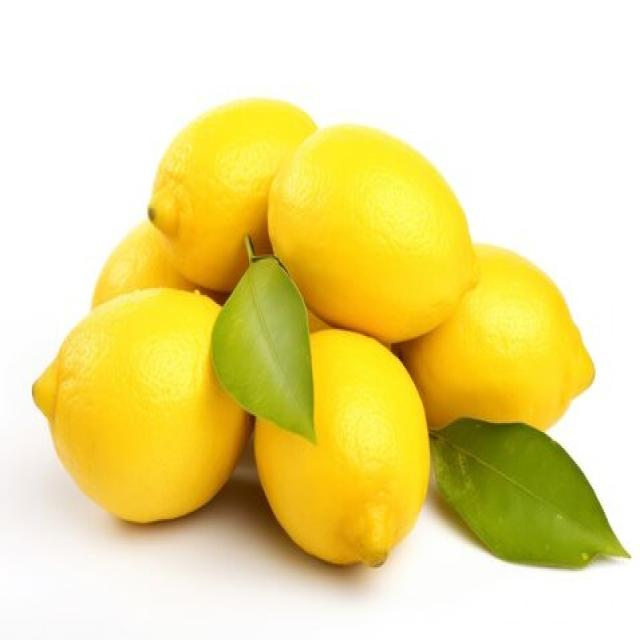Coriander Leaves: (427, 414, 631, 569)
Lemon: (31, 284, 252, 524), (266, 121, 478, 343), (253, 325, 430, 567), (399, 240, 594, 432), (146, 94, 317, 292), (90, 218, 197, 308)
